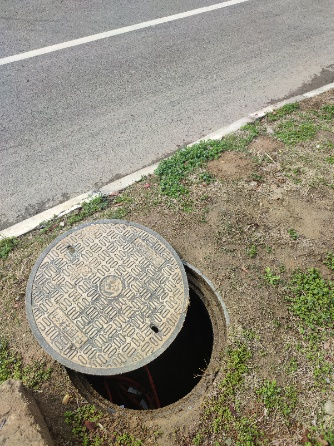uncovered: (26, 217, 227, 422)
